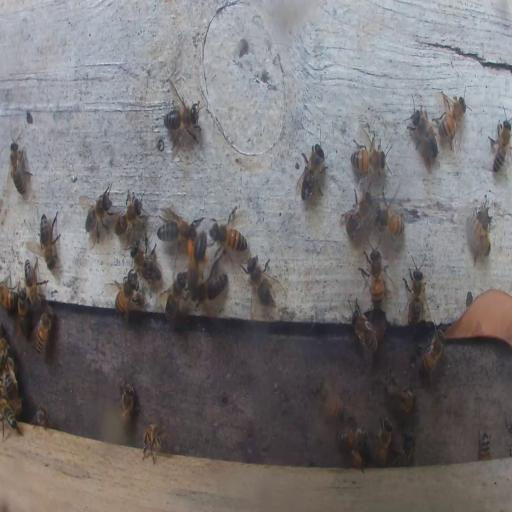bee: (406, 93, 439, 169), (350, 297, 380, 368), (163, 97, 202, 146), (296, 140, 327, 200), (83, 182, 114, 242), (341, 188, 375, 240), (404, 252, 426, 329), (438, 92, 467, 150), (488, 114, 512, 178), (114, 189, 144, 238), (418, 328, 447, 378), (311, 376, 343, 420), (210, 213, 246, 252), (37, 211, 61, 269), (132, 238, 162, 284), (162, 273, 188, 324), (468, 202, 491, 258), (8, 138, 30, 196), (187, 226, 209, 284), (244, 256, 270, 304), (385, 374, 416, 414), (143, 420, 169, 464), (195, 272, 227, 307), (366, 246, 383, 310), (113, 270, 137, 315), (374, 198, 404, 234), (24, 258, 45, 306), (372, 418, 392, 466), (335, 426, 371, 452), (35, 304, 53, 356), (156, 212, 190, 239), (349, 148, 386, 172), (0, 400, 21, 440), (119, 380, 137, 425), (2, 356, 17, 400), (398, 429, 416, 463), (0, 278, 18, 310), (18, 288, 30, 334), (30, 405, 49, 428), (480, 430, 492, 460), (348, 450, 366, 468)
